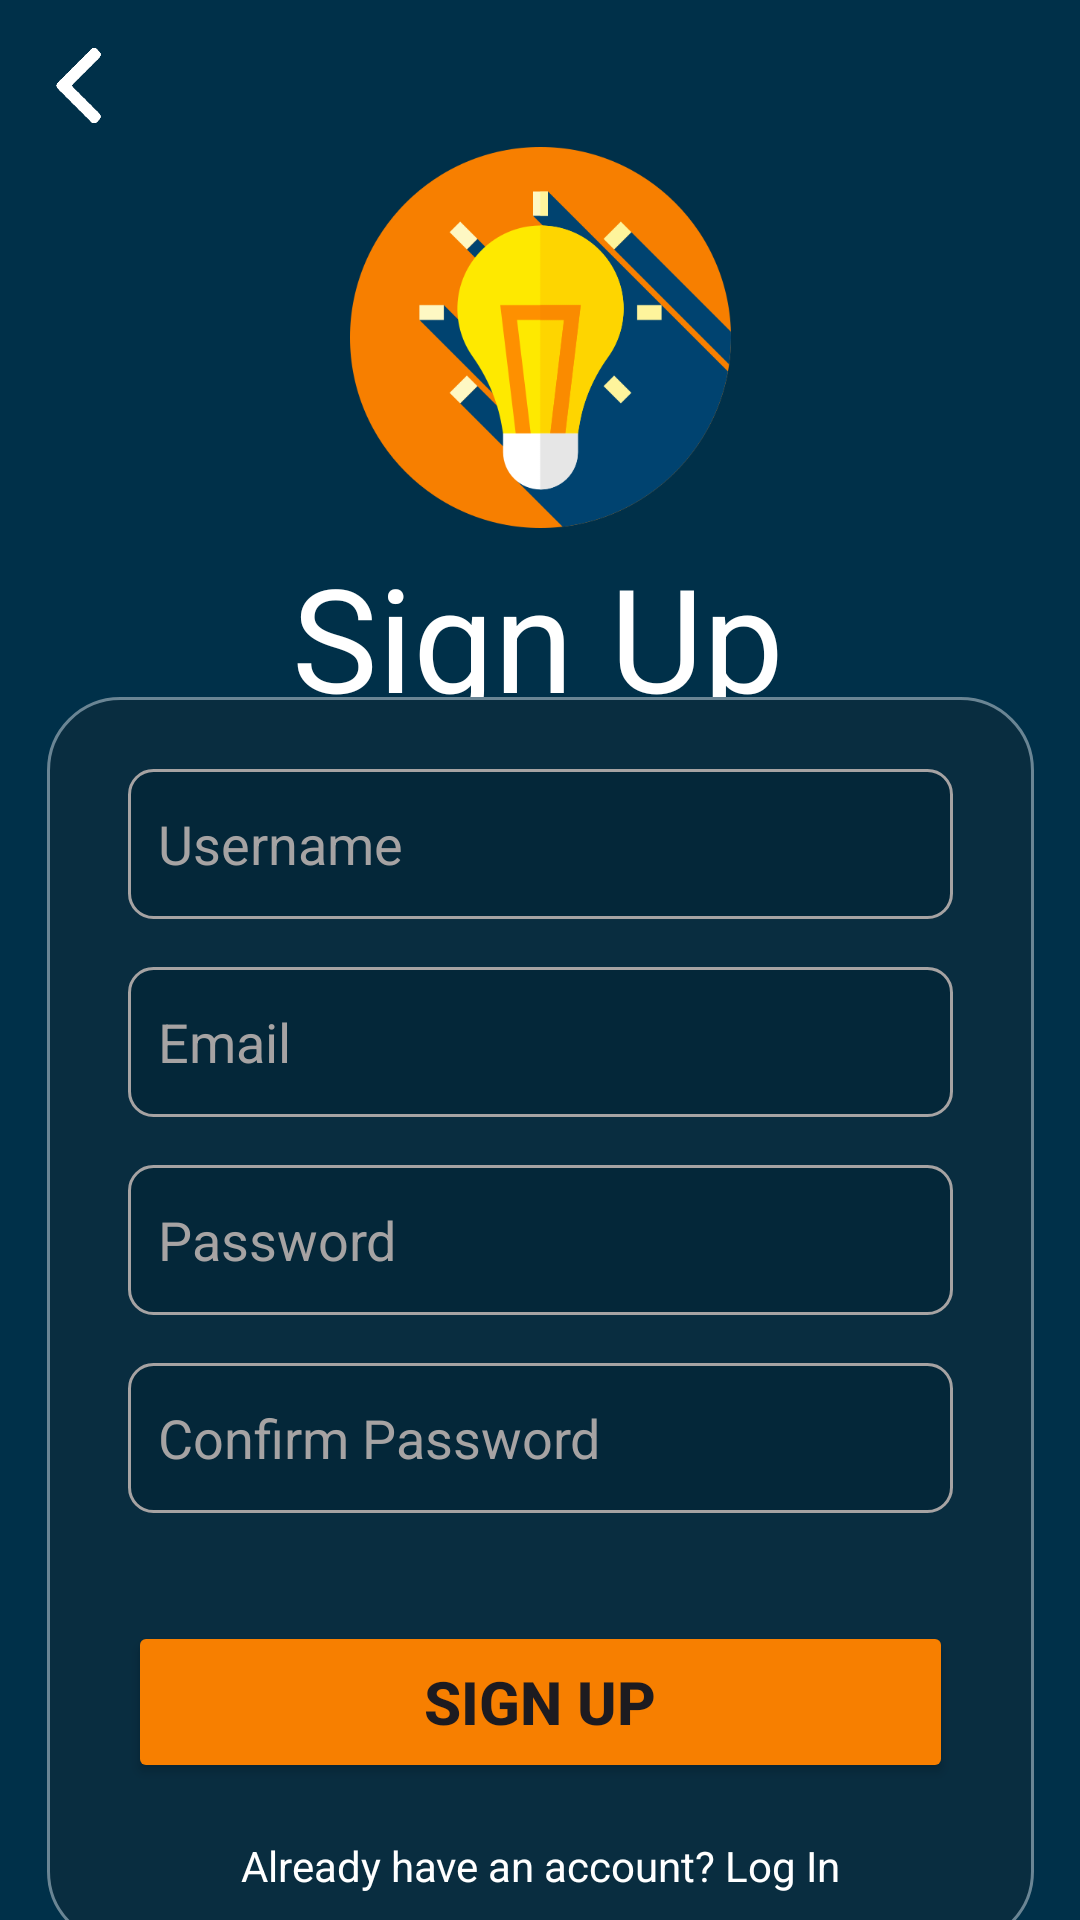

Locate icon controls on the screen. Image size 1080×1920, boxes as (x1, y1, x2, y2).
back: (56, 48, 101, 123)
